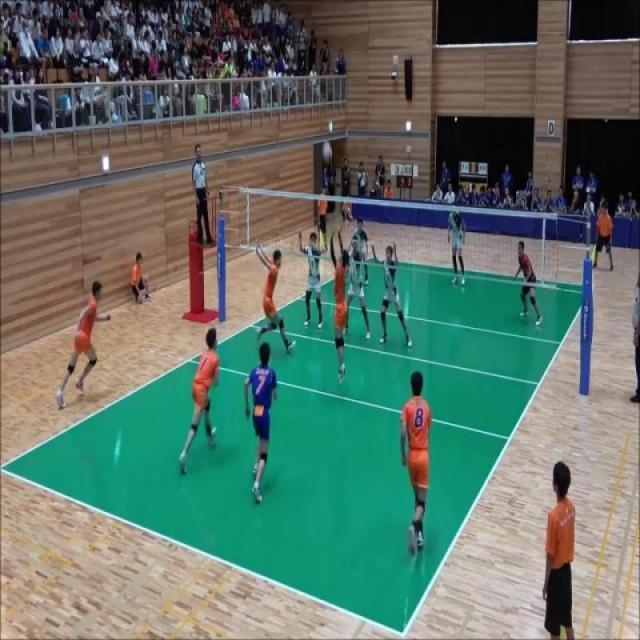volleyball: (322, 141, 333, 165)
